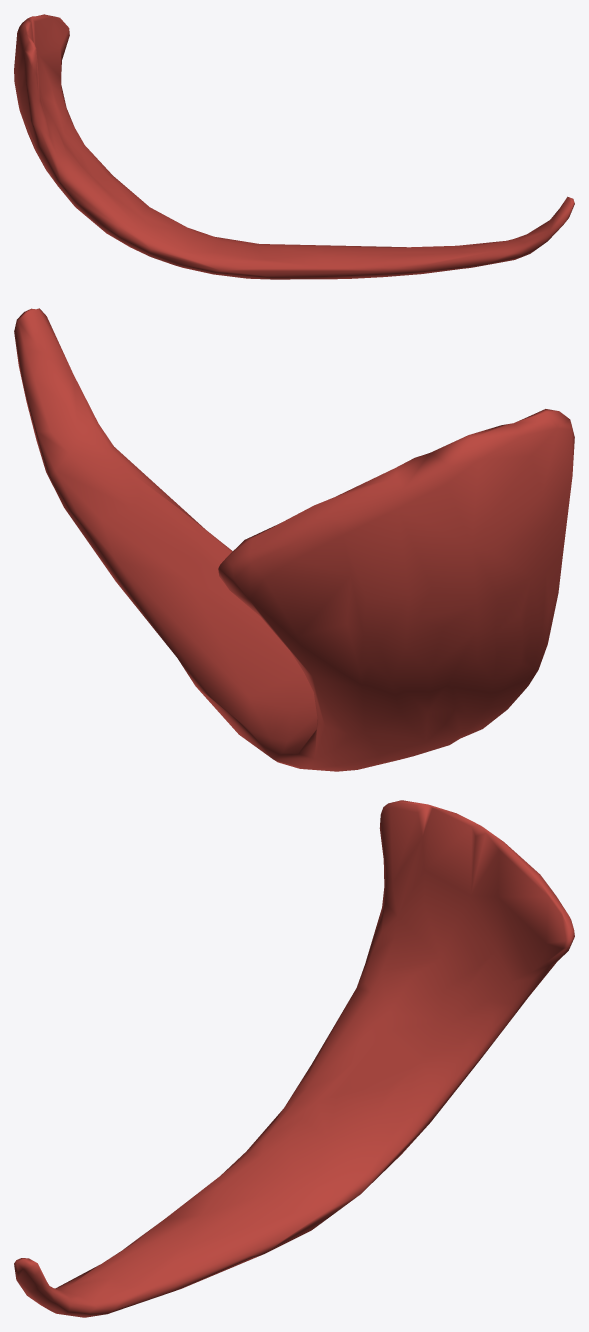
Rendered from musculos-inferior-oblique-muscle-r.glb.
3 renders of one model, top to bottom at view 1: azimuth 30°, elevation 25°; view 2: azimuth 150°, elevation 25°; view 3: azimuth 270°, elevation 25°, orthographic. The views are drawn at different scales.
Parts seen in each view (by area): view 1: Inferior oblique muscle.r; view 2: Inferior oblique muscle.r; view 3: Inferior oblique muscle.r.
Part boxes in pixels (left/top/right/bottom): Inferior oblique muscle.r: left=14, top=14, right=574, bottom=279; Inferior oblique muscle.r: left=14, top=308, right=574, bottom=771; Inferior oblique muscle.r: left=14, top=800, right=574, bottom=1317.
Size of the model in its own units: 0.0294 by 0.0162 by 0.026.
